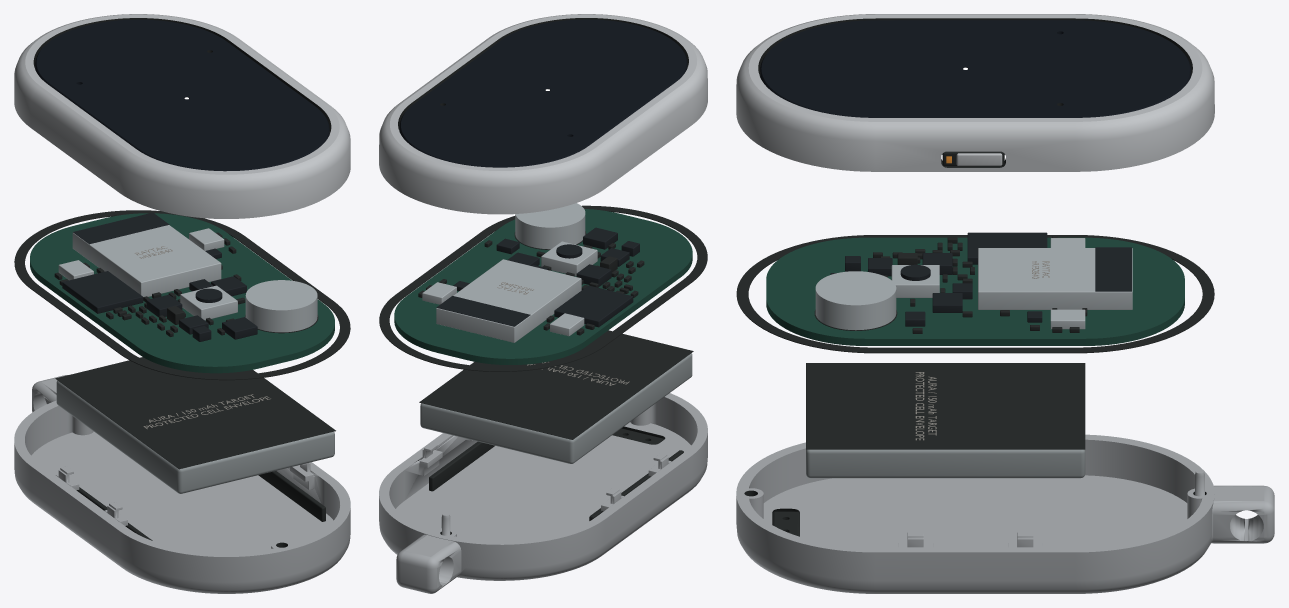
File: aura-exploded.glb
The picture shows the model from 3 angles, left to right: view 1: azimuth 30°, elevation 25°; view 2: azimuth 150°, elevation 25°; view 3: azimuth 270°, elevation 25°; orthographic projection. The views are drawn at different scales.
Visible parts, largest first — view 1: Housing_Back, Record_Button, Housing_Front, Battery_Insulator, PCB_Reference, Battery_Envelope, RF_Module_Envelope, Seam_Gasket, Haptic_Reference, Flash_Envelope, Antenna_Window, Record_Tact_Switch (+7 smaller); view 2: Housing_Back, Record_Button, Housing_Front, PCB_Reference, Battery_Insulator, Battery_Envelope, RF_Module_Envelope, Seam_Gasket, Haptic_Reference, Flash_Envelope, Antenna_Window, Record_Tact_Switch (+5 smaller); view 3: Housing_Back, Record_Button, Housing_Front, Battery_Insulator, PCB_Reference, Battery_Envelope, RF_Module_Envelope, Seam_Gasket, Haptic_Reference, Antenna_Window, Flash_Envelope, Record_Tact_Switch (+2 smaller).
Boxes of the visible parts, box(x1,y1,x2,y2) form: Housing_Back: box(14, 375, 350, 593); Record_Button: box(35, 19, 329, 171); Housing_Front: box(14, 14, 350, 218); Battery_Insulator: box(55, 357, 335, 469); PCB_Reference: box(30, 213, 334, 373); Battery_Envelope: box(56, 380, 334, 493); RF_Module_Envelope: box(72, 225, 221, 296); Seam_Gasket: box(14, 210, 350, 380); Haptic_Reference: box(245, 280, 317, 332); Flash_Envelope: box(62, 271, 143, 313); Antenna_Window: box(73, 212, 169, 244); Record_Tact_Switch: box(180, 285, 237, 320); Housing_Back: box(379, 393, 707, 593); Record_Button: box(399, 19, 687, 167); Housing_Front: box(379, 14, 707, 214); PCB_Reference: box(394, 209, 692, 364); Battery_Insulator: box(419, 330, 693, 439); Battery_Envelope: box(420, 353, 692, 463); RF_Module_Envelope: box(436, 259, 581, 342); Seam_Gasket: box(379, 205, 707, 371); Haptic_Reference: box(515, 203, 585, 249); Flash_Envelope: box(554, 285, 633, 327); Antenna_Window: box(436, 296, 530, 326); Record_Tact_Switch: box(541, 241, 597, 276); Housing_Back: box(736, 434, 1274, 593); Record_Button: box(760, 20, 1190, 117); Housing_Front: box(736, 14, 1214, 171); Battery_Insulator: box(806, 363, 1085, 449); PCB_Reference: box(766, 237, 1184, 345); Battery_Envelope: box(806, 449, 1085, 478); RF_Module_Envelope: box(978, 248, 1132, 309); Seam_Gasket: box(736, 235, 1214, 353); Haptic_Reference: box(815, 271, 896, 330); Antenna_Window: box(1095, 247, 1131, 291); Flash_Envelope: box(967, 232, 1047, 264); Record_Tact_Switch: box(891, 265, 939, 297).
Size of the model in its own units: 0.0282 by 0.052 by 0.054.
